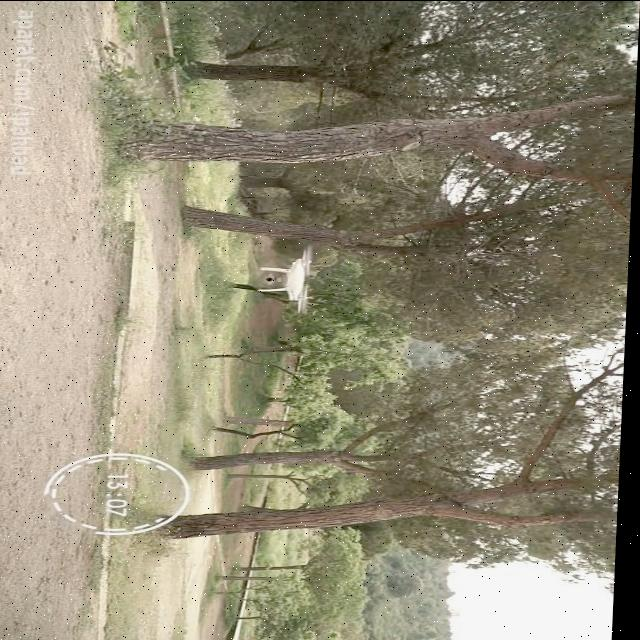drone: (259, 243, 319, 314)
